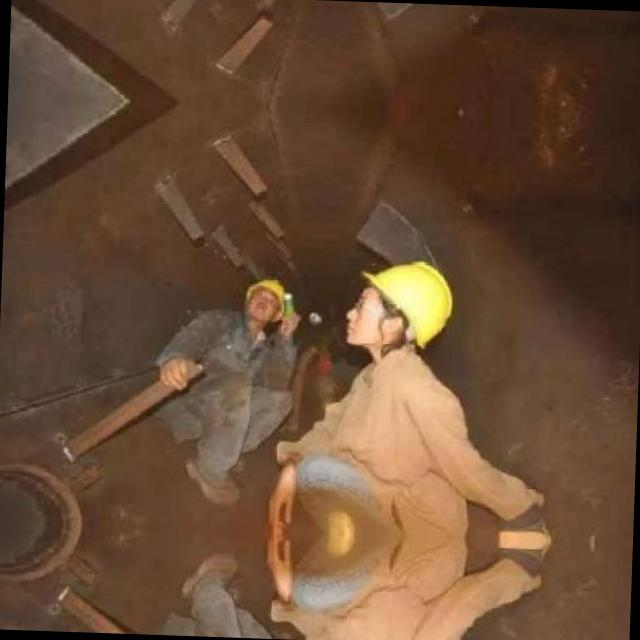helmet: (342, 247, 458, 365), (242, 271, 288, 331)
